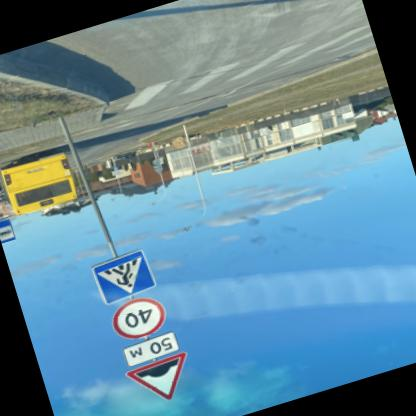crosswalk: (92, 248, 160, 306)
speedlimit: (110, 292, 172, 345)
